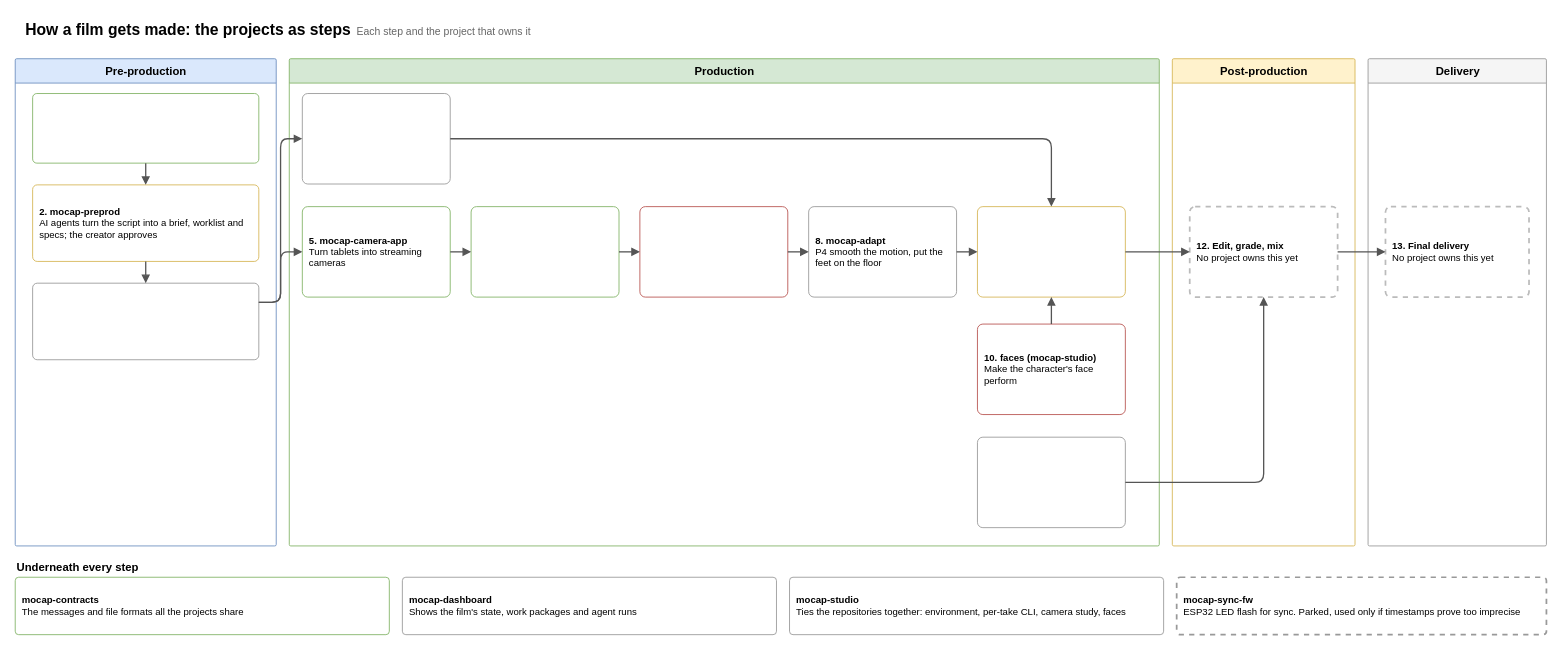
Image size: 1563x650. Some labels were removed from this diagram. The centre of each missing label's shape, as x and y in pixels:
"1. mocap-writer Write the script and film bible, in Fountain" goes at (145,128).
"11. mocap-audio Record, edit and generate voice, music and effects" goes at (1051,482).
"3. mocap-previz Script to shot list, 3D blocking and layered SVG storyboard" goes at (145,321).
"4. mocap-blender (integration) Build characters and sets with agent-driven tools" goes at (375,138).
"6. mocap-capture P1 setup, P2 record takes, preprocess and hand off" goes at (544,251).
"7. mocap-extract P3 align, calibrate, video to 3D body and hands" goes at (713,251).
"9. mocap-blender (P5) Motion onto the character, set up and render the shot" goes at (1051,251).
